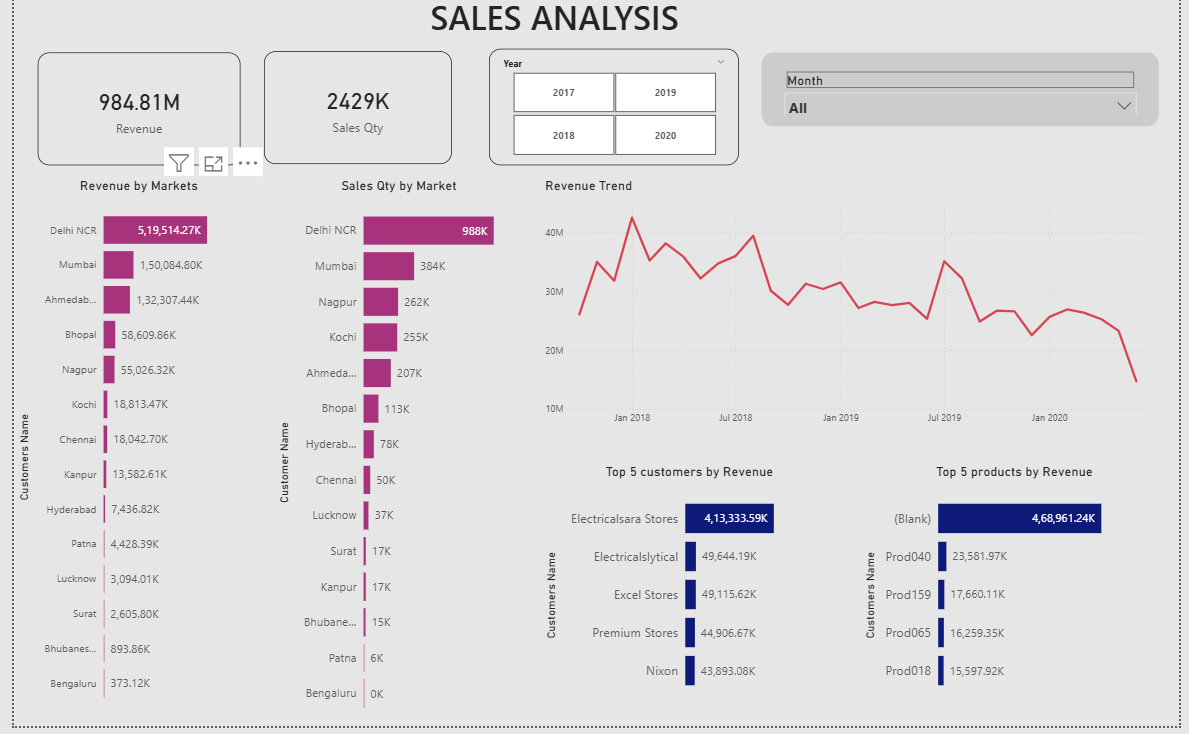

What the dashboard file says about the page in this screenshot:
{"tool":"powerbi","page":{"name":"Page 1","canvas":[1504,950],"ordinal":0},"visuals":[{"type":"card","fields":{"Values":["baseMeasures.Revenue"]},"box":[30.7,80.7,261.4,145.2],"z":0},{"type":"card","fields":{"Values":["baseMeasures.Sales Qty"]},"box":[322.7,79.1,242,145.2],"z":1},{"type":"barChart","title":"Revenue by Markets","fields":{"Y":["baseMeasures.Revenue"],"Category":["sales markets.markets_name"]},"box":[0,242,322.7,708.3],"z":2},{"type":"barChart","title":"Sales Qty by Market","fields":{"Y":["baseMeasures.Sales Qty"],"Category":["sales markets.markets_name"]},"box":[335.6,242,322.7,708.3],"z":3},{"type":"slicer","fields":{"Values":["sales date.year"]},"box":[613.1,75.8,322.7,150.1],"z":4},{"type":"slicer","fields":{"Values":["sales date.cy_date"]},"box":[964.8,106.5,513.1,95.2],"z":5},{"type":"barChart","title":"Top 5 customers by Revenue","fields":{"Y":["baseMeasures.Revenue"],"Category":["sales customers.custmer_name"]},"box":[680.9,611.5,382.4,325.9],"z":6},{"type":"lineChart","title":"Revenue Trend","fields":{"Y":["baseMeasures.Revenue"],"Category":["sales date.cy_date.Variation.Date Hierarchy.Year","sales date.cy_date.Variation.Date Hierarchy.Quarter","sales date.cy_date.Variation.Date Hierarchy.Month","sales date.cy_date.Variation.Date Hierarchy.Day"]},"box":[680.9,242,797,329.1],"z":7},{"type":"barChart","title":"Top 5 products by Revenue","fields":{"Y":["baseMeasures.Revenue"],"Category":["sales products.product_code"]},"box":[1092.3,611.5,398.5,325.9],"z":8},{"type":"textbox","box":[496.9,0,375.9,80.7],"z":9}]}

Visuals, with their boxes in screenshot pixels (x1, y1, x2, y2), scaled from the page's 1504x950 canvas onto the 1189x734 screenshot:
card - baseMeasures.Revenue: (24,62,231,175)
card - baseMeasures.Sales Qty: (255,61,446,173)
"Revenue by Markets" barChart: (0,187,255,733)
"Sales Qty by Market" barChart: (265,187,520,733)
slicer - sales date.year: (485,59,740,175)
slicer - sales date.cy_date: (763,82,1168,156)
"Top 5 customers by Revenue" barChart: (538,472,841,724)
"Revenue Trend" lineChart: (538,187,1168,441)
"Top 5 products by Revenue" barChart: (864,472,1179,724)
textbox: (393,0,690,62)
